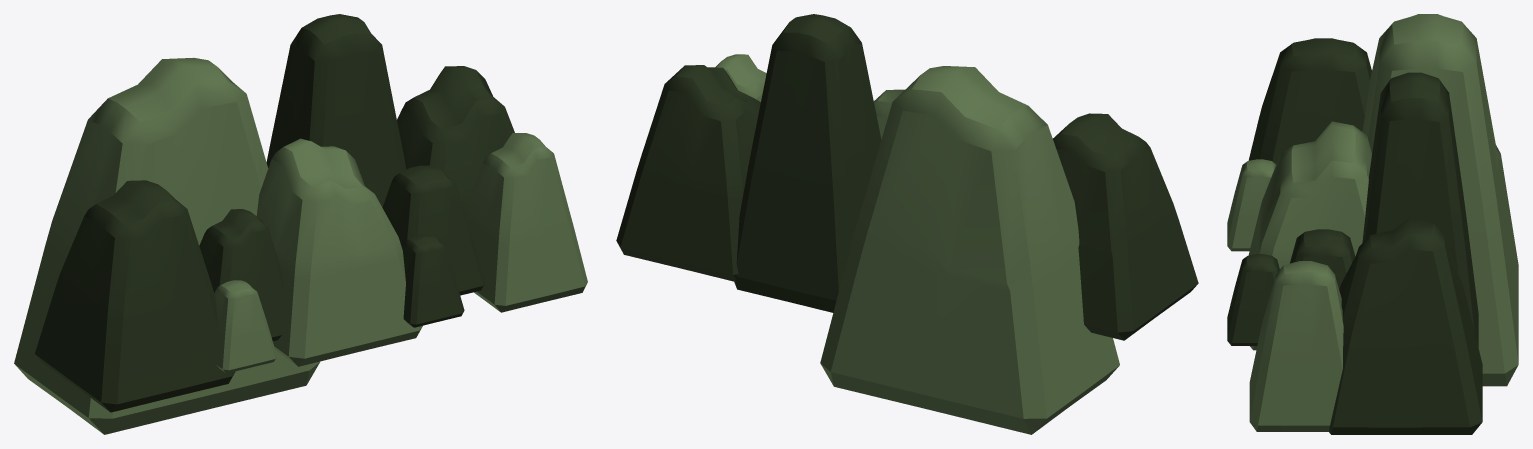
File: BestOfMountain.fbx
3 renders of one model, left to right at view 1: azimuth 30°, elevation 25°; view 2: azimuth 150°, elevation 25°; view 3: azimuth 270°, elevation 25°, orthographic. The views are drawn at different scales.
Parts seen in each view (by area): view 1: pasted__pCube1 (×3), pasted__pasted__pCube1 (×4), pCube1, pasted__pasted__pasted__pasted__pCube1, pasted__pasted__pasted__pCube1; view 2: pasted__pCube1 (×2), pasted__pasted__pasted__pasted__pCube1, pasted__pasted__pCube1 (×2), pCube1; view 3: pasted__pasted__pCube1 (×4), pasted__pCube1 (×2), pasted__pasted__pasted__pasted__pCube1, pCube1, pasted__pasted__pasted__pCube1.
Boxes of the visible parts, x1,y1,x2,y2 form: pasted__pCube1 (×3): (14, 57, 422, 434); pasted__pasted__pCube1 (×4): (214, 66, 587, 373); pCube1: (35, 180, 235, 412); pasted__pasted__pasted__pasted__pCube1: (266, 14, 406, 207); pasted__pasted__pasted__pCube1: (402, 234, 464, 327); pasted__pCube1 (×2): (820, 66, 1119, 434); pasted__pasted__pasted__pasted__pCube1: (734, 14, 881, 312); pasted__pasted__pCube1 (×2): (616, 54, 766, 281); pCube1: (1053, 113, 1198, 340); pasted__pasted__pCube1 (×4): (1227, 159, 1482, 434); pasted__pCube1 (×2): (1248, 14, 1518, 386); pasted__pasted__pasted__pasted__pCube1: (1362, 72, 1478, 347); pCube1: (1248, 38, 1371, 164); pasted__pasted__pasted__pCube1: (1227, 254, 1279, 345).
Size of the model in its own units: 125 by 80.17 by 62.17.
